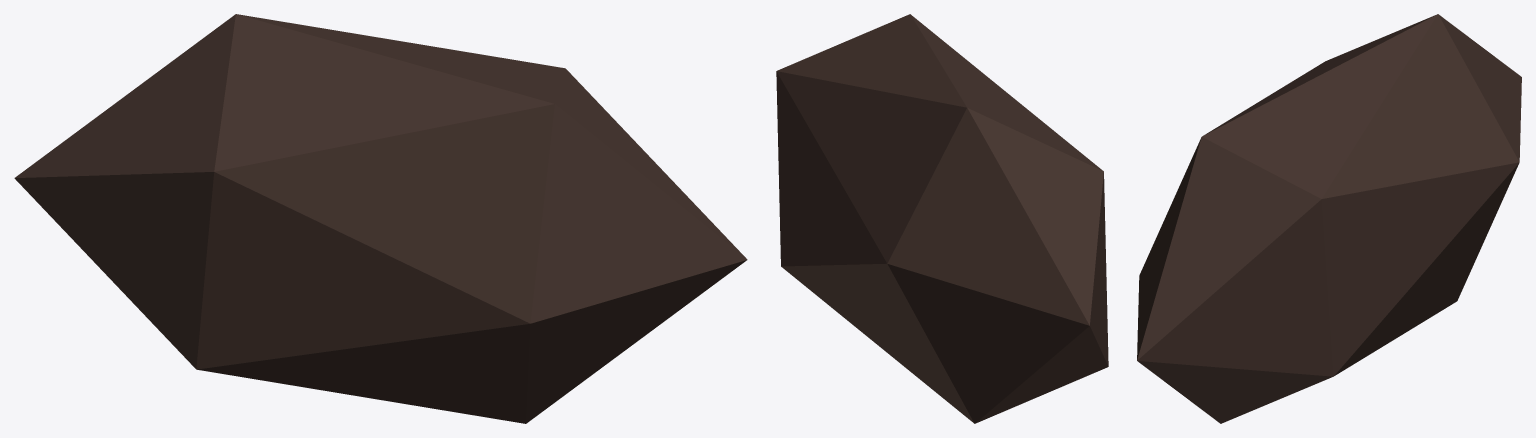
Rendered from gore_06.glb.
3 renders of one model, left to right at view 1: azimuth 30°, elevation 25°; view 2: azimuth 150°, elevation 25°; view 3: azimuth 270°, elevation 25°, orthographic. The views are drawn at different scales.
Parts seen in each view (by area): view 1: CHUNK; view 2: CHUNK; view 3: CHUNK.
Part boxes in pixels (<box>): CHUNK: <box>14,14,747,423</box>; CHUNK: <box>776,14,1108,423</box>; CHUNK: <box>1137,14,1521,423</box>.
Size of the model in its own units: 0.0981 by 0.0654 by 0.0684.
